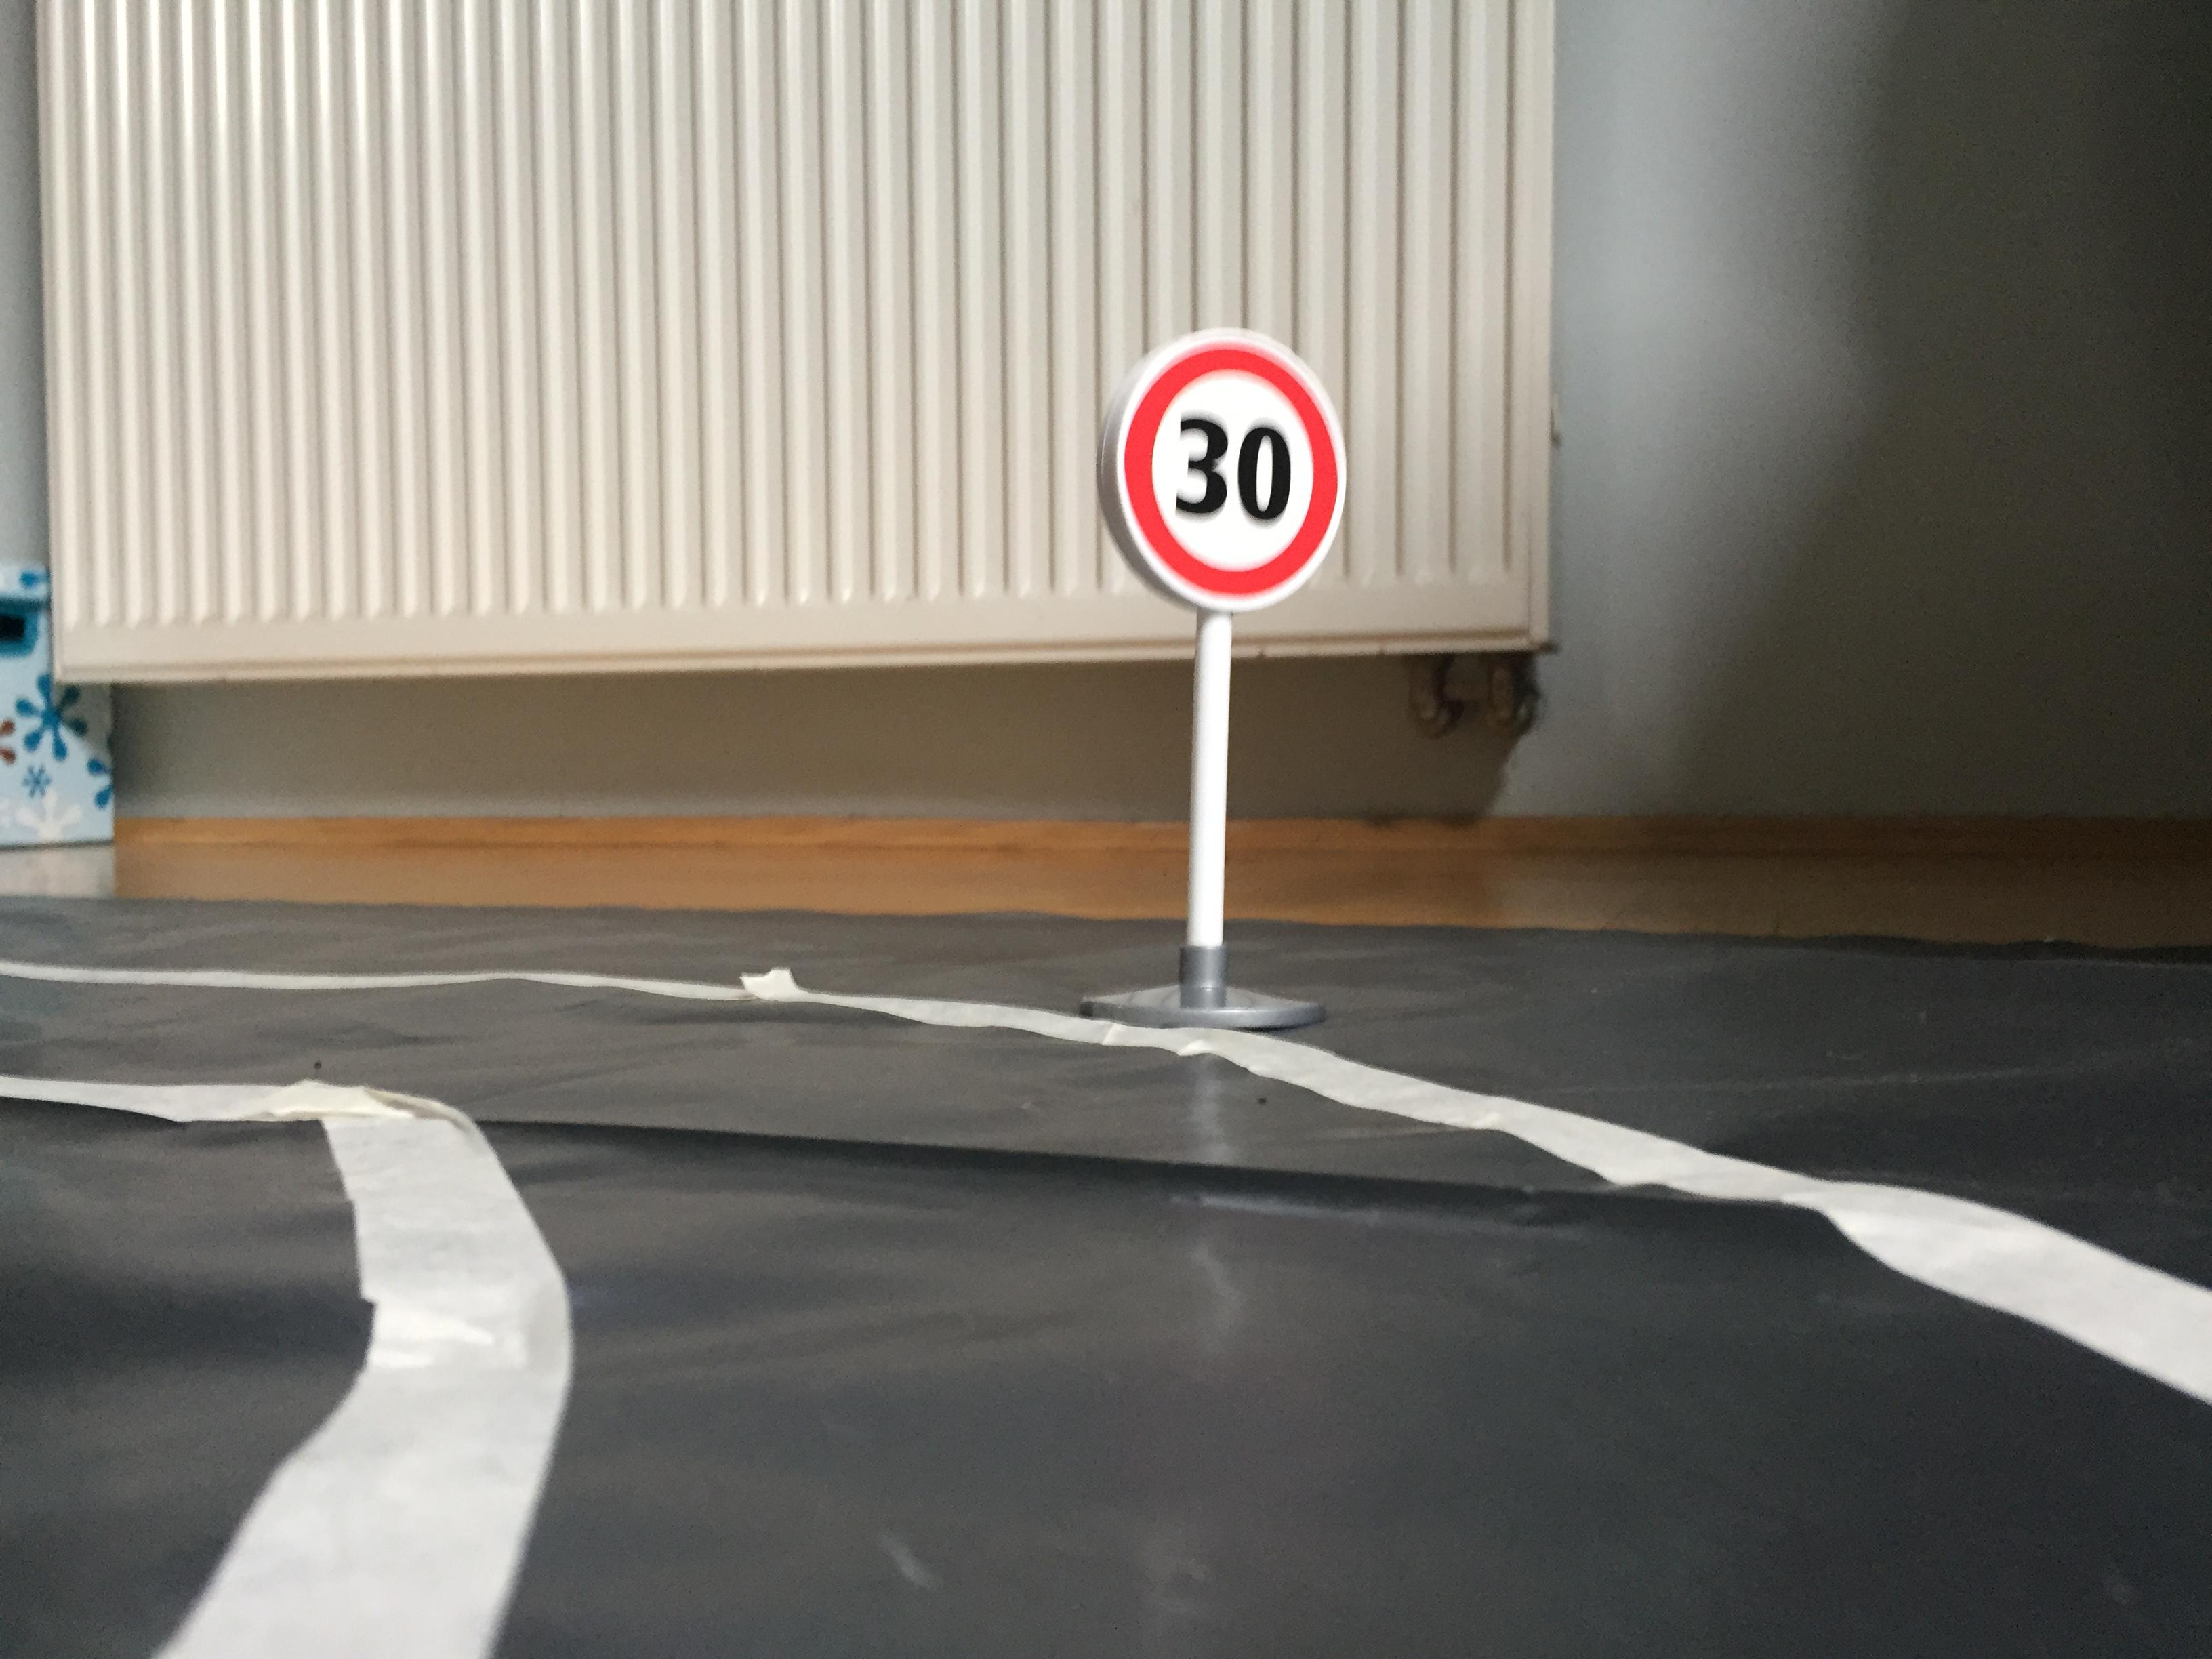speed: (1082, 322, 1353, 619)
